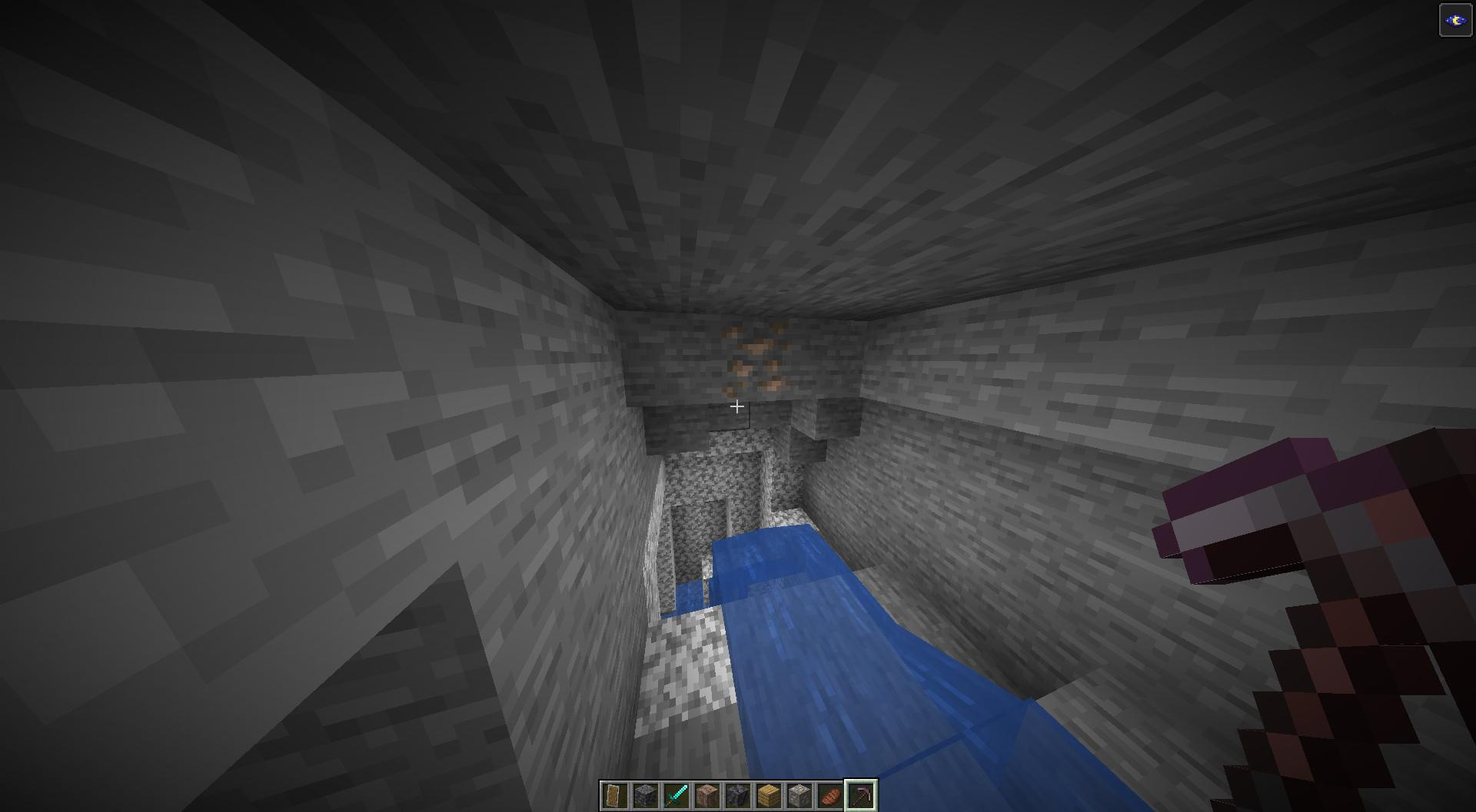iron ore: (722, 314, 789, 399)
